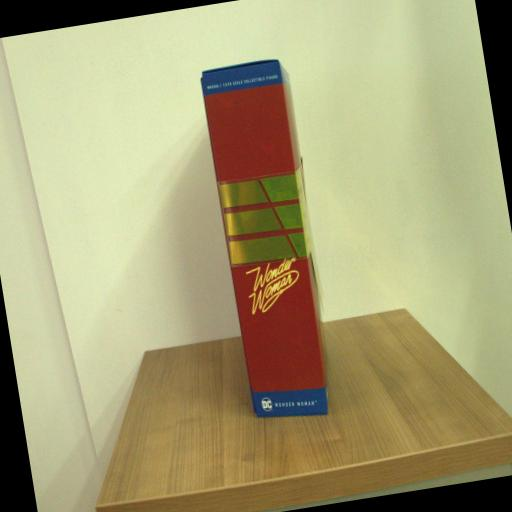WonderWoman: (198, 55, 342, 425)
